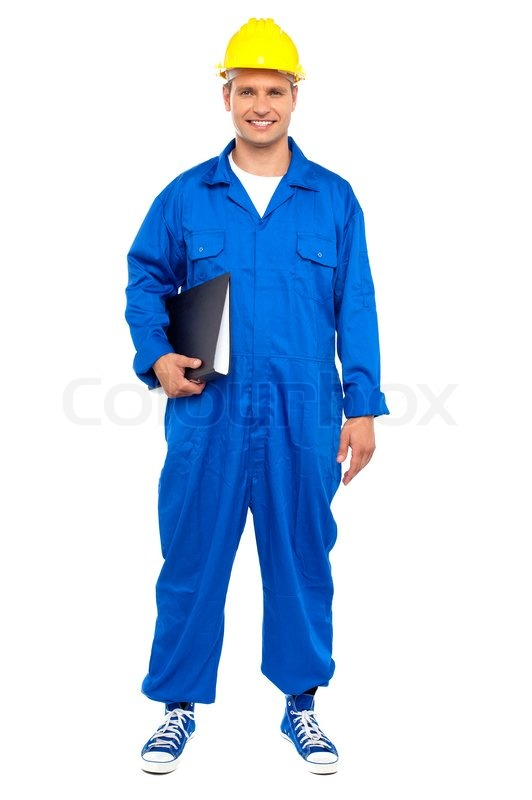Person_wearing_helmet: (204, 13, 319, 98)
